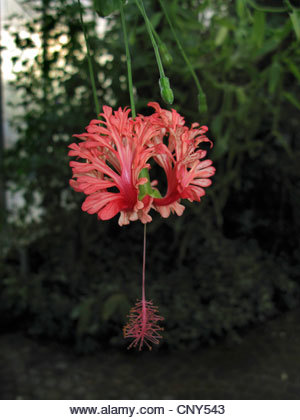Hibiscus: (65, 107, 217, 352), (148, 60, 185, 118)
